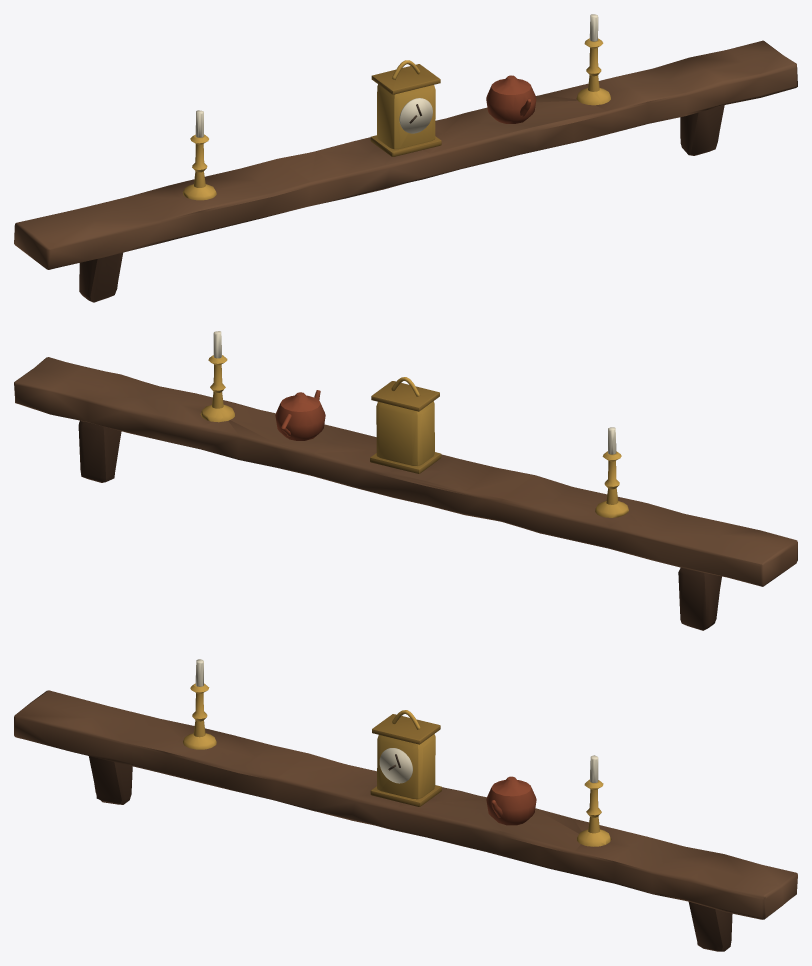
The model's file is ember_mantel_lod2.glb.
The picture shows the model from 3 angles, top to bottom: view 1: azimuth 30°, elevation 25°; view 2: azimuth 150°, elevation 25°; view 3: azimuth 330°, elevation 25°; orthographic projection.
Parts seen in each view (by area): view 1: ember_mantel.001; view 2: ember_mantel.001; view 3: ember_mantel.001.
Boxes of the visible parts, x1,y1,x2,y2 form: ember_mantel.001: (14,14,797,302); ember_mantel.001: (14,331,797,630); ember_mantel.001: (14,659,797,951).
Bounding box in the file's own units: 200 × 43.42 × 17.24.
